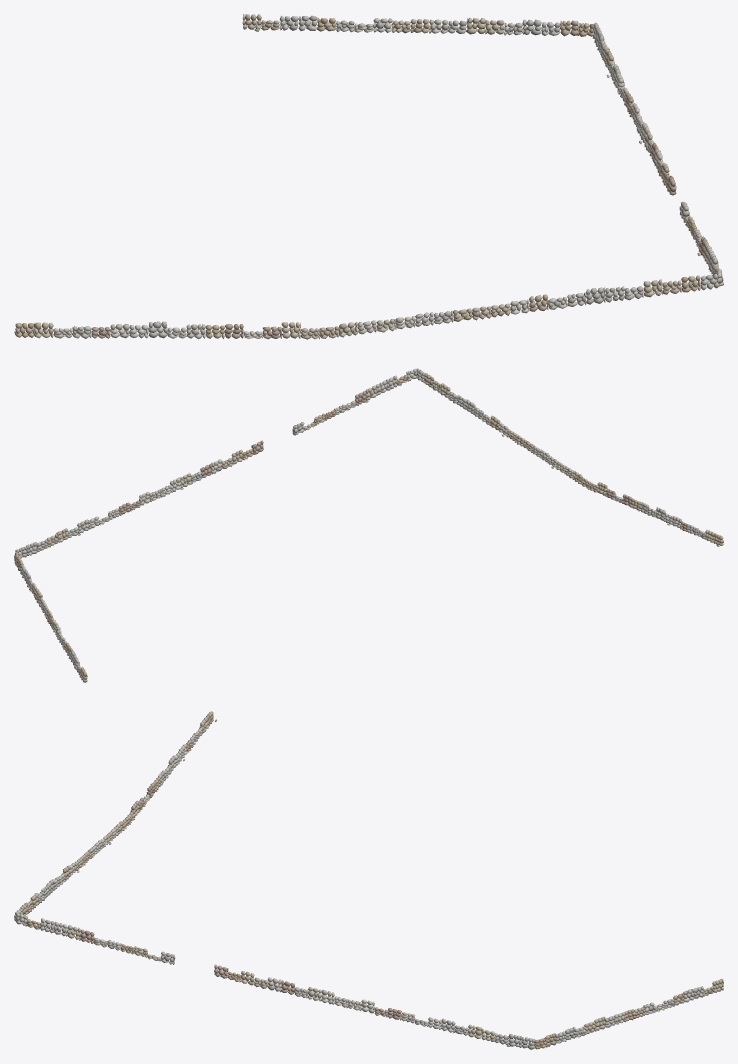
File: farm_-6_-8_near.glb
The picture shows the model from 3 angles, top to bottom: view 1: azimuth 30°, elevation 25°; view 2: azimuth 150°, elevation 25°; view 3: azimuth 270°, elevation 25°; orthographic projection. The views are drawn at different scales.
Parts seen in each view (by area): view 1: geometry_0; view 2: geometry_0; view 3: geometry_0.
Boxes of the visible parts, x1,y1,x2,y2 form: geometry_0: (14,14,723,339); geometry_0: (14,368,723,682); geometry_0: (14,711,723,1049).
Size of the model in its own units: 76.87 by 9.58 by 79.6.
